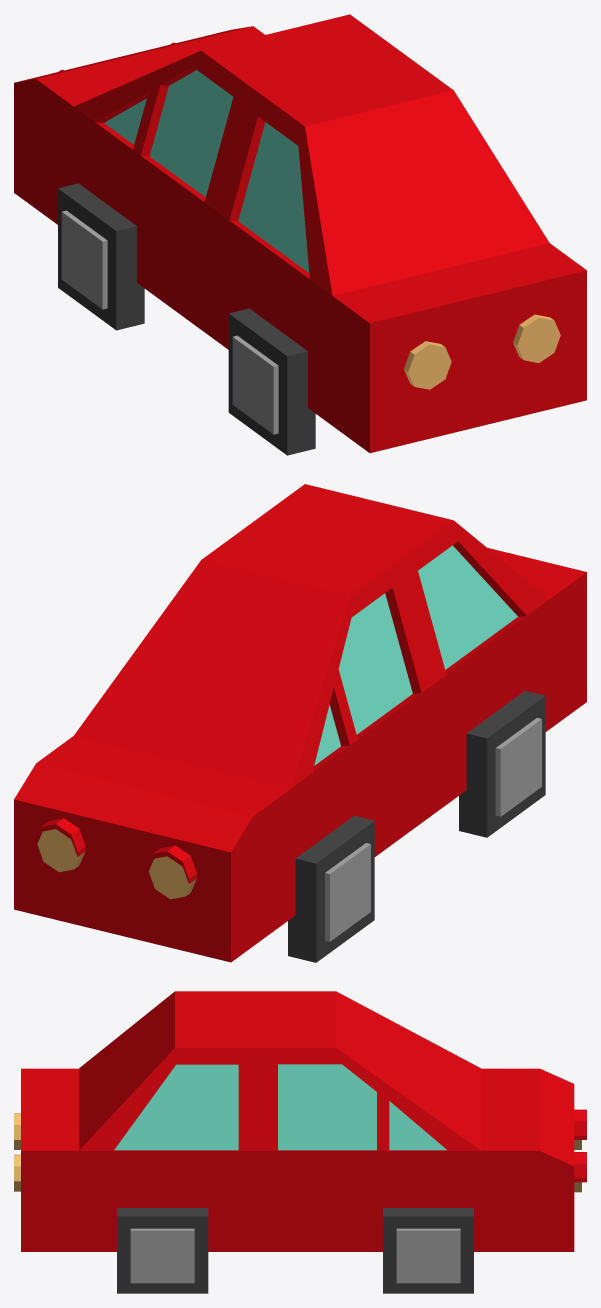
The model's file is 3D.Macchina.fbx.
3 renders of one model, top to bottom at view 1: azimuth 30°, elevation 25°; view 2: azimuth 150°, elevation 25°; view 3: azimuth 270°, elevation 25°, orthographic. The views are drawn at different scales.
Parts seen in each view (by area): view 1: Macchina, Finestrini, Ruote, Cilindro, Fanali; view 2: Macchina, Finestrini, Ruote, Cilindro, Fanali; view 3: Macchina, Finestrini, Ruote, Cilindro, Fanali.
Boxes of the visible parts, left/top/right/bottom form: Macchina: left=14, top=14, right=586, bottom=453; Finestrini: left=104, top=70, right=309, bottom=272; Ruote: left=58, top=183, right=315, bottom=455; Cilindro: left=61, top=210, right=278, bottom=434; Fanali: left=404, top=314, right=560, bottom=389; Macchina: left=14, top=484, right=586, bottom=962; Finestrini: left=314, top=545, right=517, bottom=765; Ruote: left=288, top=690, right=545, bottom=962; Cilindro: left=325, top=718, right=541, bottom=941; Fanali: left=37, top=829, right=196, bottom=899; Macchina: left=21, top=991, right=586, bottom=1251; Finestrini: left=114, top=1064, right=446, bottom=1150; Ruote: left=117, top=1208, right=473, bottom=1293; Cilindro: left=130, top=1228, right=460, bottom=1283; Fanali: left=14, top=1113, right=581, bottom=1192.
Size of the model in its own units: 77.37 by 79 by 183.
